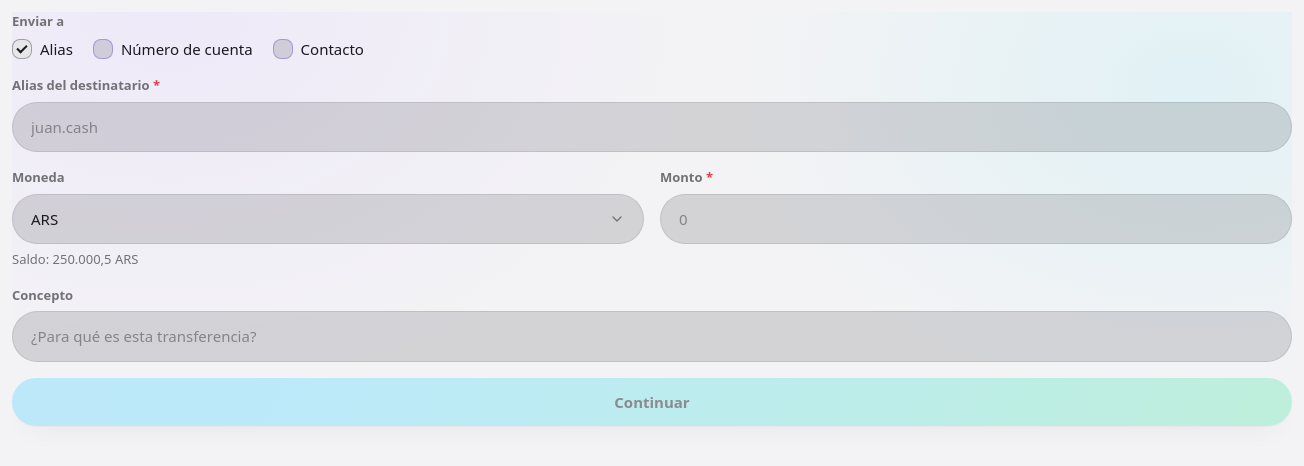
Test: TransferWizard — métodos de envío › muestra un error si el número de cuenta no existe
The width and height of the screenshot is (1304, 466).
Click the radio button labelled "Número de cuenta" at (103, 49), box [93,39,113,59]
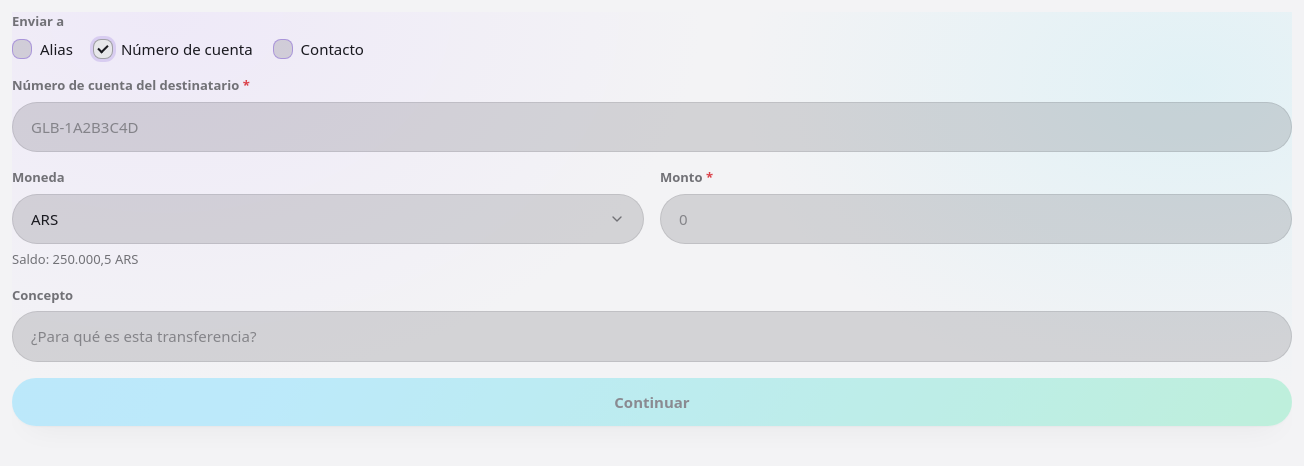
Type "9999999999" into the field labelled "Número de cuenta del destinatario" at (652, 127), box [12,102,1292,152]
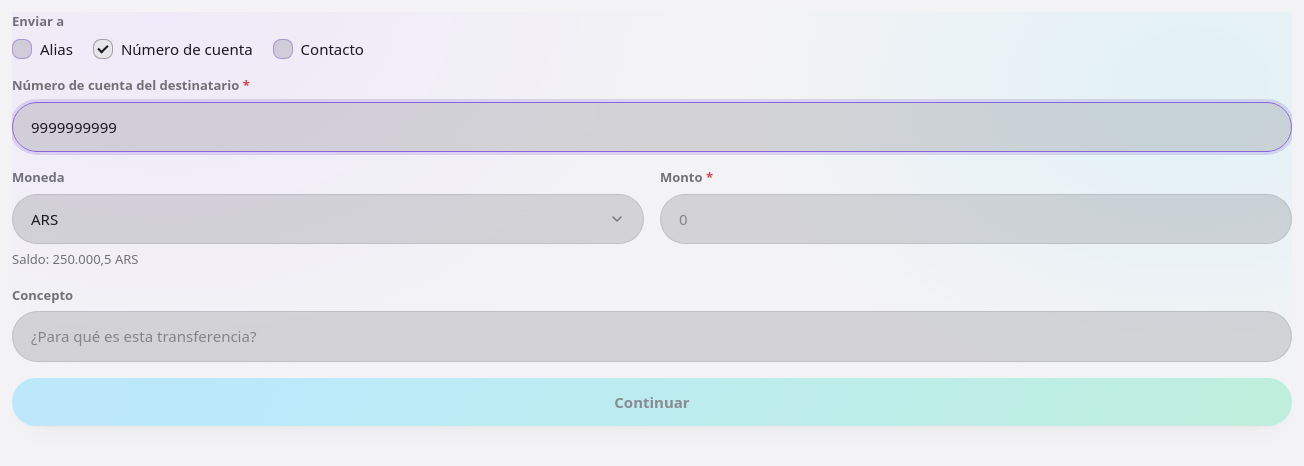
Type "1000" into the number field labelled "Monto" at (976, 219), box [660,194,1292,244]
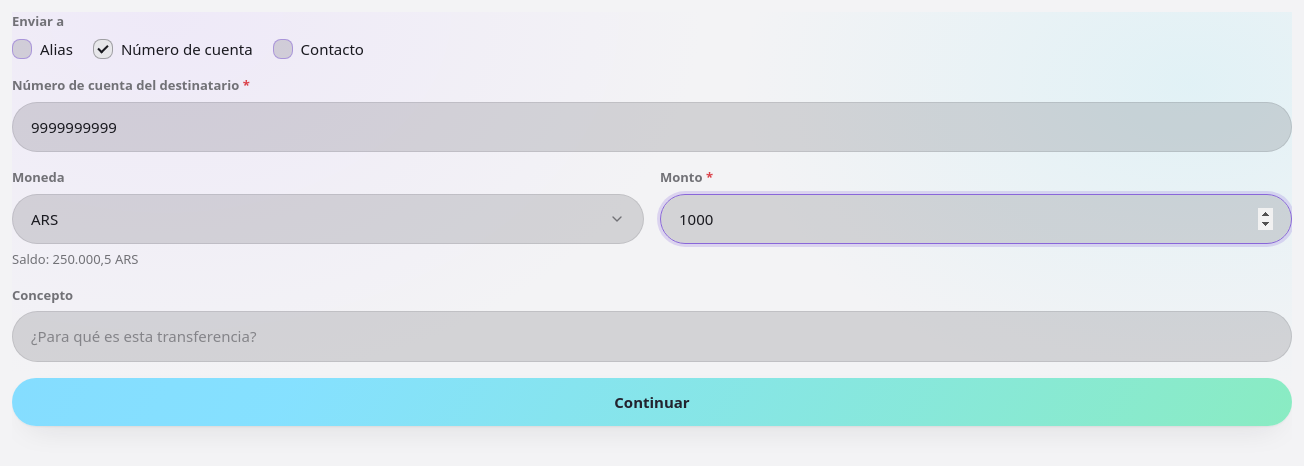
Click the button "Continuar" at (652, 402), box [12,378,1292,426]
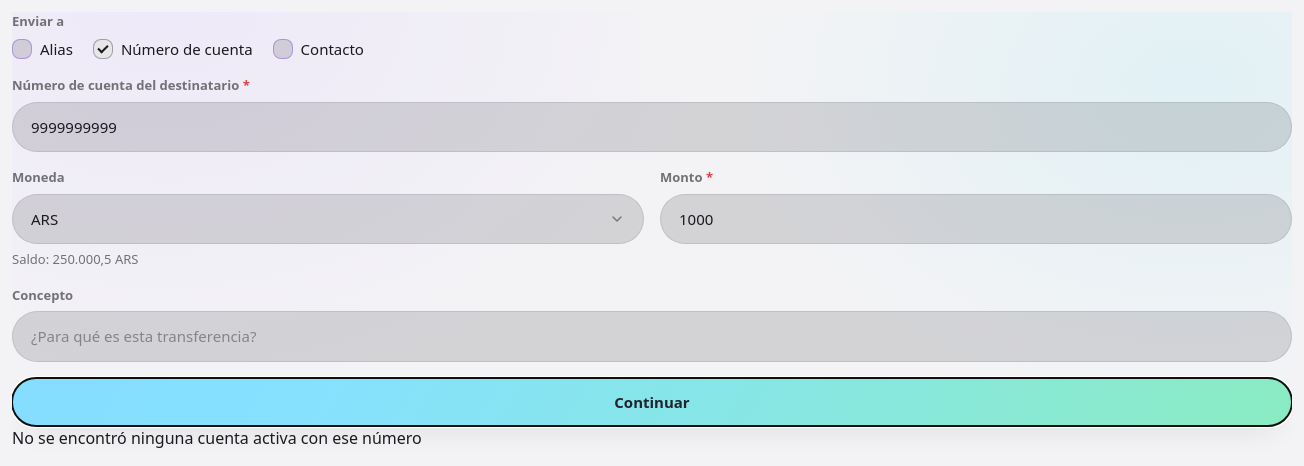
Check: the message reads "No se encontró ninguna cuenta activa con ese número", box [12,427,422,449]
